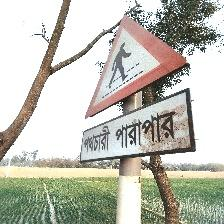Pedestrian-crossing: (81, 14, 195, 163)
